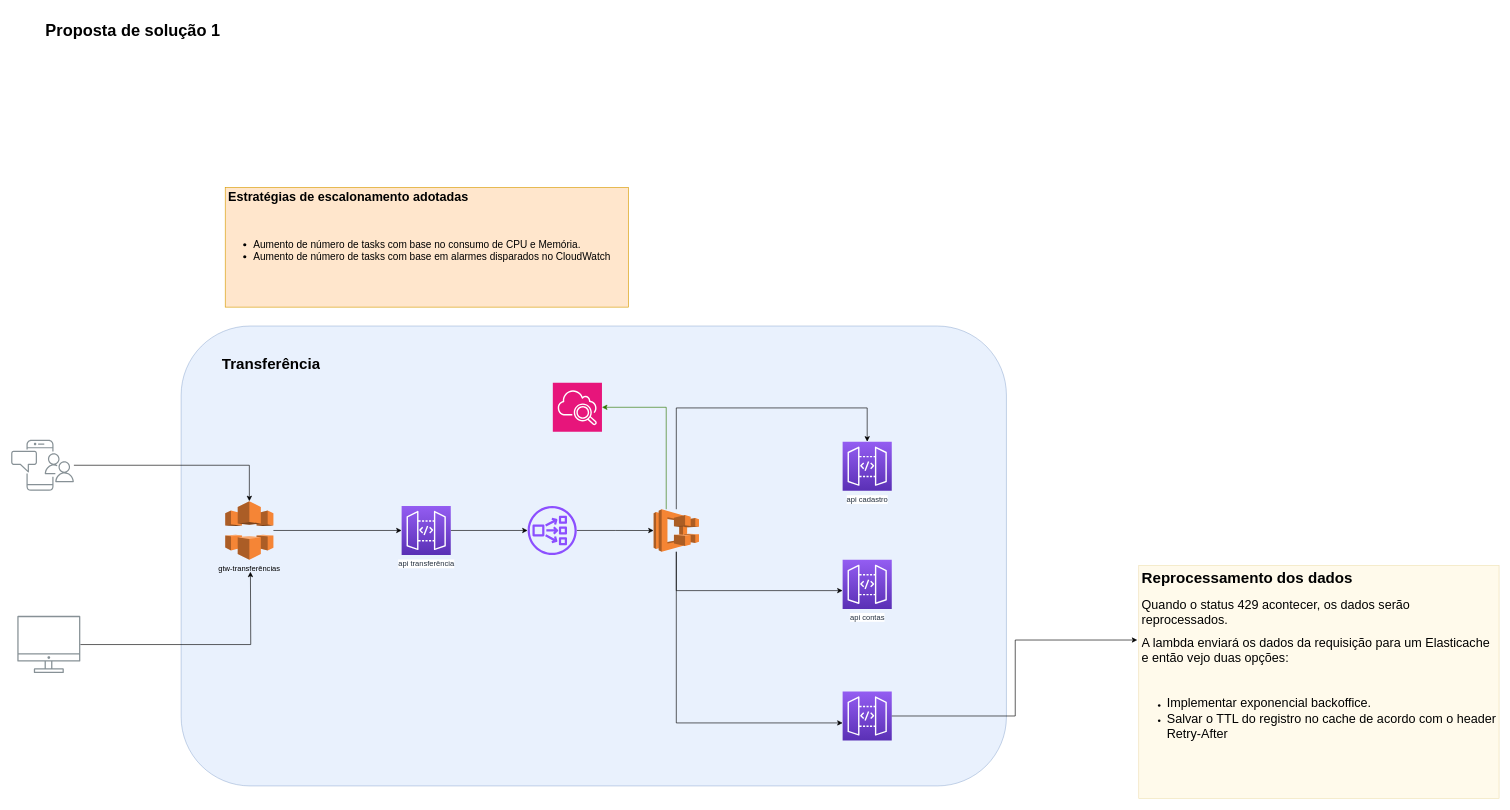
Image size: 1510x810. Some labels were removed from this diagram. The shapes that lost their labels are listed below. From the top down, each one's centre as x and y in pixels, then its label:
At (x=42, y=464): "mobile".
At (x=48, y=644): "internet banking".
At (x=867, y=716): "api transferências".
